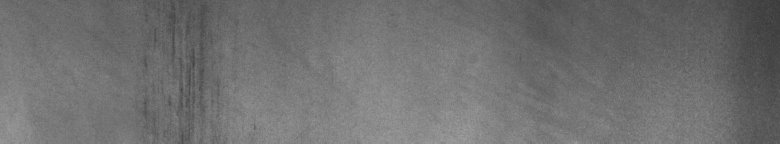ka: (143, 6, 256, 130)
